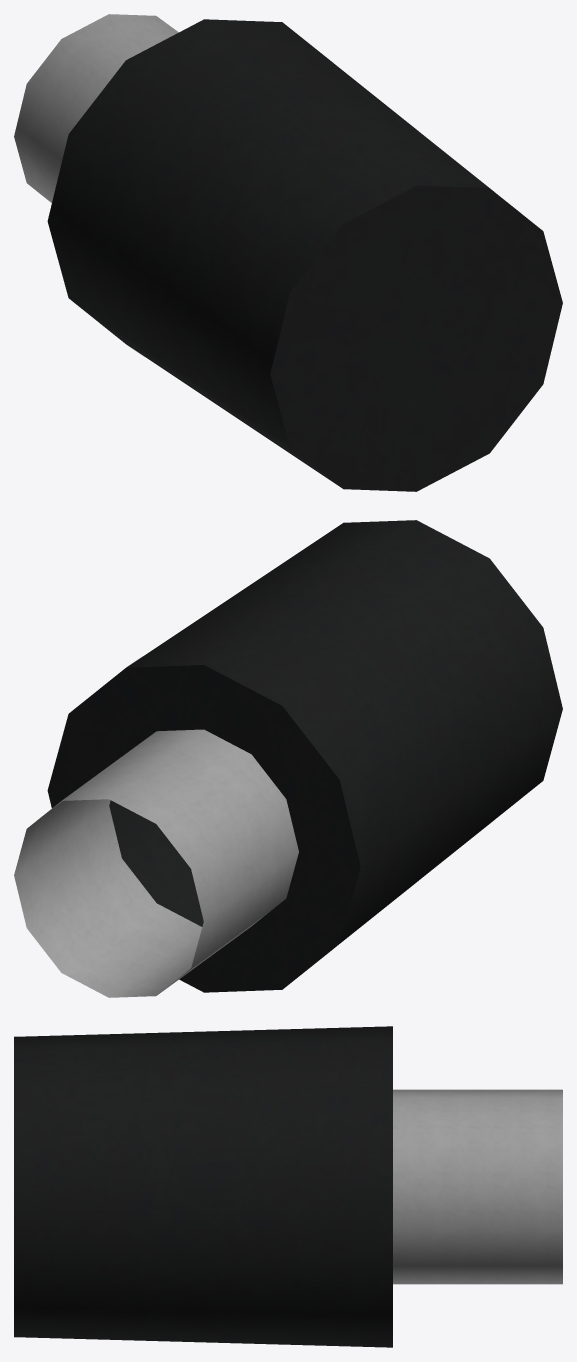
Rendered from SM_光谱仪_旋转04.FBX.
3 renders of one model, top to bottom at view 1: azimuth 30°, elevation 25°; view 2: azimuth 150°, elevation 25°; view 3: azimuth 270°, elevation 25°, orthographic. The views are drawn at different scales.
Parts seen in each view (by area): view 1: SM_光谱仪_旋转04; view 2: SM_光谱仪_旋转04; view 3: SM_光谱仪_旋转04.
Part boxes in pixels (left/top/right/bottom): SM_光谱仪_旋转04: left=14, top=14, right=562, bottom=491; SM_光谱仪_旋转04: left=14, top=520, right=562, bottom=997; SM_光谱仪_旋转04: left=14, top=1026, right=562, bottom=1347.
Bounding box in the file's own units: 0.0236 × 0.0236 × 0.0402.
